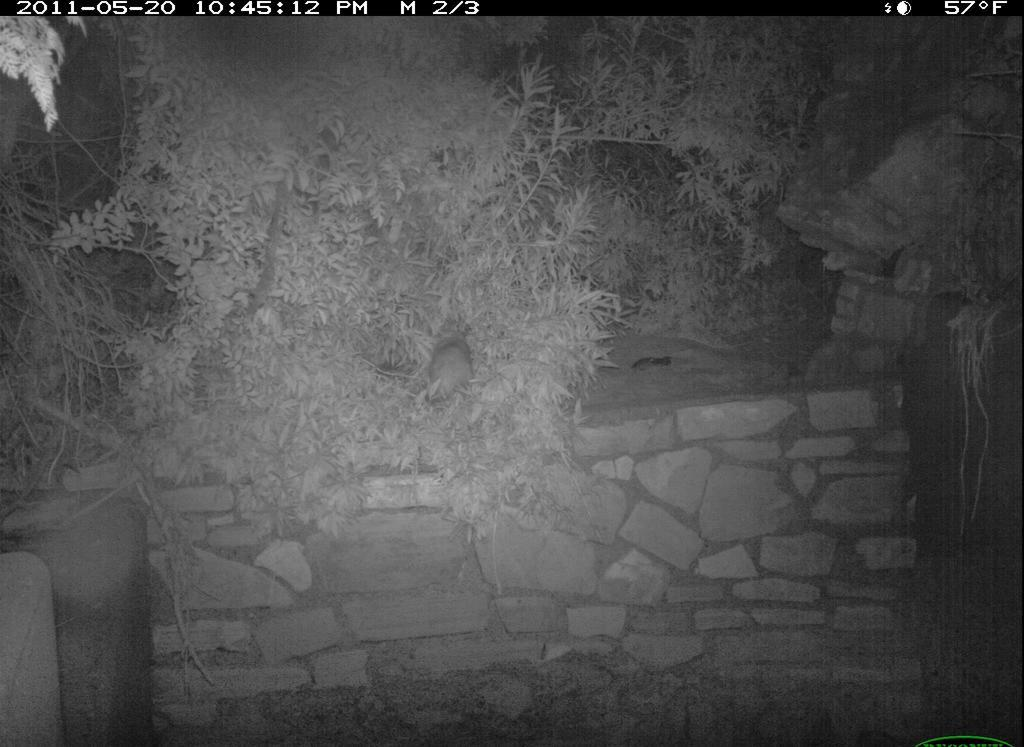opossum: (406, 315, 489, 414)
